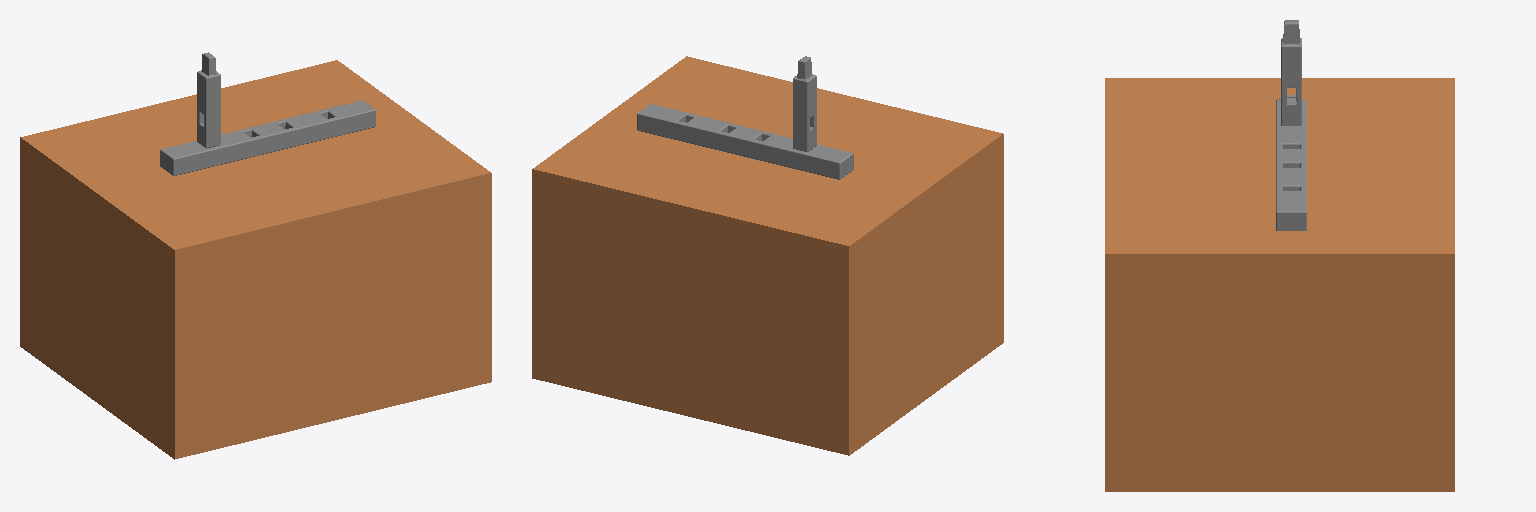
robot.urdf — table_beam_2x_0_scene_0091:
<?xml version="1.0"?>
<robot name="table_beam_2x_0_scene_0091">
  <link name="box">
    <visual>
      <material name="wood"><color rgba="0.82 0.56 0.35 1.0"/></material>
      <origin xyz="0 0 0"/>
      <geometry><box size="0.475 0.4 0.3"/></geometry>
    </visual>
    <collision>
      <origin xyz="0 0 0"/>
      <geometry><box size="0.475 0.4 0.3"/></geometry>
    </collision>
    <inertial>
      <mass value="500"/>
      <friction value="1.0"/>
      <inertia ixx="1000.0" ixy="0.0" ixz="0.0" iyy="1000.0" iyz="0.0" izz="1000.0"/>
    </inertial>
  </link>
  <link name="part_6_canonical">
    <visual>
      <origin xyz="0 0 0" rpy="0 0 0"/>
      <geometry><mesh filename="../../6/6_canonical.obj" scale="1 1 1"/></geometry>
      <material name="placed_0"><color rgba="0.6 0.6 0.6 1.0"/></material>
    </visual>
    <collision>
      <origin xyz="0 0 0" rpy="0 0 0"/>
      <geometry><mesh filename="../../6/6_canonical.obj" scale="1 1 1"/></geometry>
    </collision>
  </link>
  <joint name="part_6_canonical_joint" type="fixed">
    <parent link="box"/>
    <child link="part_6_canonical"/>
    <origin xyz="0.026128 0.013284 0.162666" rpy="0.000000 0.000000 0.000000"/>
  </joint>
  <link name="part_2_hull_0">
    <visual>
      <origin xyz="0 0 0" rpy="0 0 0"/>
      <geometry><mesh filename="../../2/coacd/decomp_0.obj" scale="1 1 1"/></geometry>
      <material name="placed_1"><color rgba="0.6 0.6 0.6 1.0"/></material>
    </visual>
    <collision>
      <origin xyz="0 0 0" rpy="0 0 0"/>
      <geometry><mesh filename="../../2/coacd/decomp_0.obj" scale="1 1 1"/></geometry>
    </collision>
  </link>
  <joint name="part_2_hull_0_joint" type="fixed">
    <parent link="box"/>
    <child link="part_2_hull_0"/>
    <origin xyz="-0.062798 0.013284 0.225384" rpy="0.000000 -1.570796 0.000000"/>
  </joint>
  <link name="part_2_hull_1">
    <visual>
      <origin xyz="0 0 0" rpy="0 0 0"/>
      <geometry><mesh filename="../../2/coacd/decomp_1.obj" scale="1 1 1"/></geometry>
      <material name="placed_2"><color rgba="0.6 0.6 0.6 1.0"/></material>
    </visual>
    <collision>
      <origin xyz="0 0 0" rpy="0 0 0"/>
      <geometry><mesh filename="../../2/coacd/decomp_1.obj" scale="1 1 1"/></geometry>
    </collision>
  </link>
  <joint name="part_2_hull_1_joint" type="fixed">
    <parent link="box"/>
    <child link="part_2_hull_1"/>
    <origin xyz="-0.062798 0.013284 0.225384" rpy="0.000000 -1.570796 0.000000"/>
  </joint>
  <link name="part_2_hull_2">
    <visual>
      <origin xyz="0 0 0" rpy="0 0 0"/>
      <geometry><mesh filename="../../2/coacd/decomp_10.obj" scale="1 1 1"/></geometry>
      <material name="placed_3"><color rgba="0.6 0.6 0.6 1.0"/></material>
    </visual>
    <collision>
      <origin xyz="0 0 0" rpy="0 0 0"/>
      <geometry><mesh filename="../../2/coacd/decomp_10.obj" scale="1 1 1"/></geometry>
    </collision>
  </link>
  <joint name="part_2_hull_2_joint" type="fixed">
    <parent link="box"/>
    <child link="part_2_hull_2"/>
    <origin xyz="-0.062798 0.013284 0.225384" rpy="0.000000 -1.570796 0.000000"/>
  </joint>
  <link name="part_2_hull_3">
    <visual>
      <origin xyz="0 0 0" rpy="0 0 0"/>
      <geometry><mesh filename="../../2/coacd/decomp_11.obj" scale="1 1 1"/></geometry>
      <material name="placed_4"><color rgba="0.6 0.6 0.6 1.0"/></material>
    </visual>
    <collision>
      <origin xyz="0 0 0" rpy="0 0 0"/>
      <geometry><mesh filename="../../2/coacd/decomp_11.obj" scale="1 1 1"/></geometry>
    </collision>
  </link>
  <joint name="part_2_hull_3_joint" type="fixed">
    <parent link="box"/>
    <child link="part_2_hull_3"/>
    <origin xyz="-0.062798 0.013284 0.225384" rpy="0.000000 -1.570796 0.000000"/>
  </joint>
  <link name="part_2_hull_4">
    <visual>
      <origin xyz="0 0 0" rpy="0 0 0"/>
      <geometry><mesh filename="../../2/coacd/decomp_12.obj" scale="1 1 1"/></geometry>
      <material name="placed_5"><color rgba="0.6 0.6 0.6 1.0"/></material>
    </visual>
    <collision>
      <origin xyz="0 0 0" rpy="0 0 0"/>
      <geometry><mesh filename="../../2/coacd/decomp_12.obj" scale="1 1 1"/></geometry>
    </collision>
  </link>
  <joint name="part_2_hull_4_joint" type="fixed">
    <parent link="box"/>
    <child link="part_2_hull_4"/>
    <origin xyz="-0.062798 0.013284 0.225384" rpy="0.000000 -1.570796 0.000000"/>
  </joint>
  <link name="part_2_hull_5">
    <visual>
      <origin xyz="0 0 0" rpy="0 0 0"/>
      <geometry><mesh filename="../../2/coacd/decomp_13.obj" scale="1 1 1"/></geometry>
      <material name="placed_6"><color rgba="0.6 0.6 0.6 1.0"/></material>
    </visual>
    <collision>
      <origin xyz="0 0 0" rpy="0 0 0"/>
      <geometry><mesh filename="../../2/coacd/decomp_13.obj" scale="1 1 1"/></geometry>
    </collision>
  </link>
  <joint name="part_2_hull_5_joint" type="fixed">
    <parent link="box"/>
    <child link="part_2_hull_5"/>
    <origin xyz="-0.062798 0.013284 0.225384" rpy="0.000000 -1.570796 0.000000"/>
  </joint>
  <link name="part_2_hull_6">
    <visual>
      <origin xyz="0 0 0" rpy="0 0 0"/>
      <geometry><mesh filename="../../2/coacd/decomp_14.obj" scale="1 1 1"/></geometry>
      <material name="placed_7"><color rgba="0.6 0.6 0.6 1.0"/></material>
    </visual>
    <collision>
      <origin xyz="0 0 0" rpy="0 0 0"/>
      <geometry><mesh filename="../../2/coacd/decomp_14.obj" scale="1 1 1"/></geometry>
    </collision>
  </link>
  <joint name="part_2_hull_6_joint" type="fixed">
    <parent link="box"/>
    <child link="part_2_hull_6"/>
    <origin xyz="-0.062798 0.013284 0.225384" rpy="0.000000 -1.570796 0.000000"/>
  </joint>
  <link name="part_2_hull_7">
    <visual>
      <origin xyz="0 0 0" rpy="0 0 0"/>
      <geometry><mesh filename="../../2/coacd/decomp_15.obj" scale="1 1 1"/></geometry>
      <material name="placed_8"><color rgba="0.6 0.6 0.6 1.0"/></material>
    </visual>
    <collision>
      <origin xyz="0 0 0" rpy="0 0 0"/>
      <geometry><mesh filename="../../2/coacd/decomp_15.obj" scale="1 1 1"/></geometry>
    </collision>
  </link>
  <joint name="part_2_hull_7_joint" type="fixed">
    <parent link="box"/>
    <child link="part_2_hull_7"/>
    <origin xyz="-0.062798 0.013284 0.225384" rpy="0.000000 -1.570796 0.000000"/>
  </joint>
  <link name="part_2_hull_8">
    <visual>
      <origin xyz="0 0 0" rpy="0 0 0"/>
      <geometry><mesh filename="../../2/coacd/decomp_2.obj" scale="1 1 1"/></geometry>
      <material name="placed_9"><color rgba="0.6 0.6 0.6 1.0"/></material>
    </visual>
    <collision>
      <origin xyz="0 0 0" rpy="0 0 0"/>
      <geometry><mesh filename="../../2/coacd/decomp_2.obj" scale="1 1 1"/></geometry>
    </collision>
  </link>
  <joint name="part_2_hull_8_joint" type="fixed">
    <parent link="box"/>
    <child link="part_2_hull_8"/>
    <origin xyz="-0.062798 0.013284 0.225384" rpy="0.000000 -1.570796 0.000000"/>
  </joint>
  <link name="part_2_hull_9">
    <visual>
      <origin xyz="0 0 0" rpy="0 0 0"/>
      <geometry><mesh filename="../../2/coacd/decomp_3.obj" scale="1 1 1"/></geometry>
      <material name="placed_10"><color rgba="0.6 0.6 0.6 1.0"/></material>
    </visual>
    <collision>
      <origin xyz="0 0 0" rpy="0 0 0"/>
      <geometry><mesh filename="../../2/coacd/decomp_3.obj" scale="1 1 1"/></geometry>
    </collision>
  </link>
  <joint name="part_2_hull_9_joint" type="fixed">
    <parent link="box"/>
    <child link="part_2_hull_9"/>
    <origin xyz="-0.062798 0.013284 0.225384" rpy="0.000000 -1.570796 0.000000"/>
  </joint>
  <link name="part_2_hull_10">
    <visual>
      <origin xyz="0 0 0" rpy="0 0 0"/>
      <geometry><mesh filename="../../2/coacd/decomp_4.obj" scale="1 1 1"/></geometry>
      <material name="placed_11"><color rgba="0.6 0.6 0.6 1.0"/></material>
    </visual>
    <collision>
      <origin xyz="0 0 0" rpy="0 0 0"/>
      <geometry><mesh filename="../../2/coacd/decomp_4.obj" scale="1 1 1"/></geometry>
    </collision>
  </link>
  <joint name="part_2_hull_10_joint" type="fixed">
    <parent link="box"/>
    <child link="part_2_hull_10"/>
    <origin xyz="-0.062798 0.013284 0.225384" rpy="0.000000 -1.570796 0.000000"/>
  </joint>
  <link name="part_2_hull_11">
    <visual>
      <origin xyz="0 0 0" rpy="0 0 0"/>
      <geometry><mesh filename="../../2/coacd/decomp_5.obj" scale="1 1 1"/></geometry>
      <material name="placed_12"><color rgba="0.6 0.6 0.6 1.0"/></material>
    </visual>
    <collision>
      <origin xyz="0 0 0" rpy="0 0 0"/>
      <geometry><mesh filename="../../2/coacd/decomp_5.obj" scale="1 1 1"/></geometry>
    </collision>
  </link>
  <joint name="part_2_hull_11_joint" type="fixed">
    <parent link="box"/>
    <child link="part_2_hull_11"/>
    <origin xyz="-0.062798 0.013284 0.225384" rpy="0.000000 -1.570796 0.000000"/>
  </joint>
  <link name="part_2_hull_12">
    <visual>
      <origin xyz="0 0 0" rpy="0 0 0"/>
      <geometry><mesh filename="../../2/coacd/decomp_6.obj" scale="1 1 1"/></geometry>
      <material name="placed_13"><color rgba="0.6 0.6 0.6 1.0"/></material>
    </visual>
    <collision>
      <origin xyz="0 0 0" rpy="0 0 0"/>
      <geometry><mesh filename="../../2/coacd/decomp_6.obj" scale="1 1 1"/></geometry>
    </collision>
  </link>
  <joint name="part_2_hull_12_joint" type="fixed">
    <parent link="box"/>
    <child link="part_2_hull_12"/>
    <origin xyz="-0.062798 0.013284 0.225384" rpy="0.000000 -1.570796 0.000000"/>
  </joint>
  <link name="part_2_hull_13">
    <visual>
      <origin xyz="0 0 0" rpy="0 0 0"/>
      <geometry><mesh filename="../../2/coacd/decomp_7.obj" scale="1 1 1"/></geometry>
      <material name="placed_14"><color rgba="0.6 0.6 0.6 1.0"/></material>
    </visual>
    <collision>
      <origin xyz="0 0 0" rpy="0 0 0"/>
      <geometry><mesh filename="../../2/coacd/decomp_7.obj" scale="1 1 1"/></geometry>
    </collision>
  </link>
  <joint name="part_2_hull_13_joint" type="fixed">
    <parent link="box"/>
    <child link="part_2_hull_13"/>
    <origin xyz="-0.062798 0.013284 0.225384" rpy="0.000000 -1.570796 0.000000"/>
  </joint>
  <link name="part_2_hull_14">
    <visual>
      <origin xyz="0 0 0" rpy="0 0 0"/>
      <geometry><mesh filename="../../2/coacd/decomp_8.obj" scale="1 1 1"/></geometry>
      <material name="placed_15"><color rgba="0.6 0.6 0.6 1.0"/></material>
    </visual>
    <collision>
      <origin xyz="0 0 0" rpy="0 0 0"/>
      <geometry><mesh filename="../../2/coacd/decomp_8.obj" scale="1 1 1"/></geometry>
    </collision>
  </link>
  <joint name="part_2_hull_14_joint" type="fixed">
    <parent link="box"/>
    <child link="part_2_hull_14"/>
    <origin xyz="-0.062798 0.013284 0.225384" rpy="0.000000 -1.570796 0.000000"/>
  </joint>
  <link name="part_2_hull_15">
    <visual>
      <origin xyz="0 0 0" rpy="0 0 0"/>
      <geometry><mesh filename="../../2/coacd/decomp_9.obj" scale="1 1 1"/></geometry>
      <material name="placed_16"><color rgba="0.6 0.6 0.6 1.0"/></material>
    </visual>
    <collision>
      <origin xyz="0 0 0" rpy="0 0 0"/>
      <geometry><mesh filename="../../2/coacd/decomp_9.obj" scale="1 1 1"/></geometry>
    </collision>
  </link>
  <joint name="part_2_hull_15_joint" type="fixed">
    <parent link="box"/>
    <child link="part_2_hull_15"/>
    <origin xyz="-0.062798 0.013284 0.225384" rpy="0.000000 -1.570796 0.000000"/>
  </joint>
</robot>

--- What the picture shows (computed from the rendered views, not written in the file) ---
Views: 3 orthographic renders of the robot side by side, from view 1: azimuth 30°, elevation 25°; view 2: azimuth 150°, elevation 25°; view 3: azimuth 270°, elevation 25°.
Robot: table_beam_2x_0_scene_0091 — 18 links, 17 joints (17 fixed); root link box; default pose: every joint at zero.
Links seen in each view (by area): view 1: box, part_6_canonical, part_2_hull_1; view 2: box, part_6_canonical, part_2_hull_1; view 3: box, part_6_canonical.
Link boxes in pixels (x1=…): box: x1=20, y1=60, x2=491, y2=459; part_6_canonical: x1=160, y1=100, x2=375, y2=175; part_2_hull_1: x1=197, y1=71, x2=209, y2=115; box: x1=532, y1=56, x2=1003, y2=455; part_6_canonical: x1=637, y1=104, x2=853, y2=179; part_2_hull_1: x1=804, y1=75, x2=816, y2=119; box: x1=1105, y1=78, x2=1454, y2=491; part_6_canonical: x1=1276, y1=99, x2=1306, y2=230.
Bounding box of the posed robot: 0.475 × 0.4 × 0.4524 m (x, y, z).
17 mesh visuals loaded from 17 distinct referenced files (17 OBJ).
